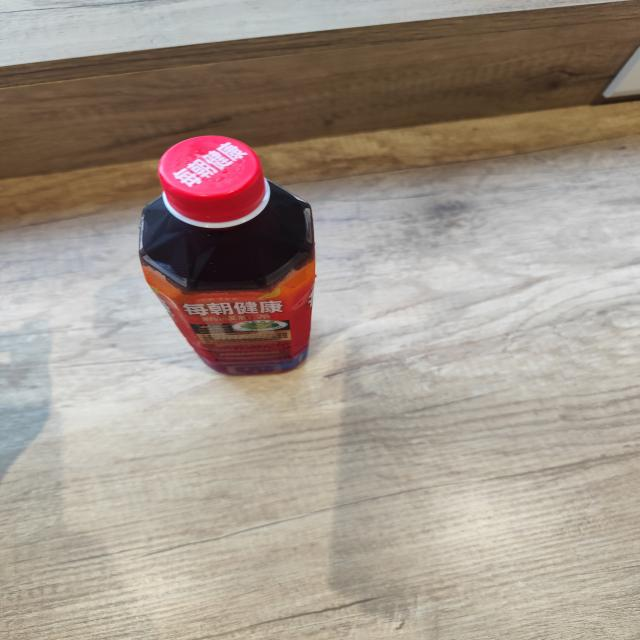MeiChou_BlackTea: (136, 128, 320, 379)
